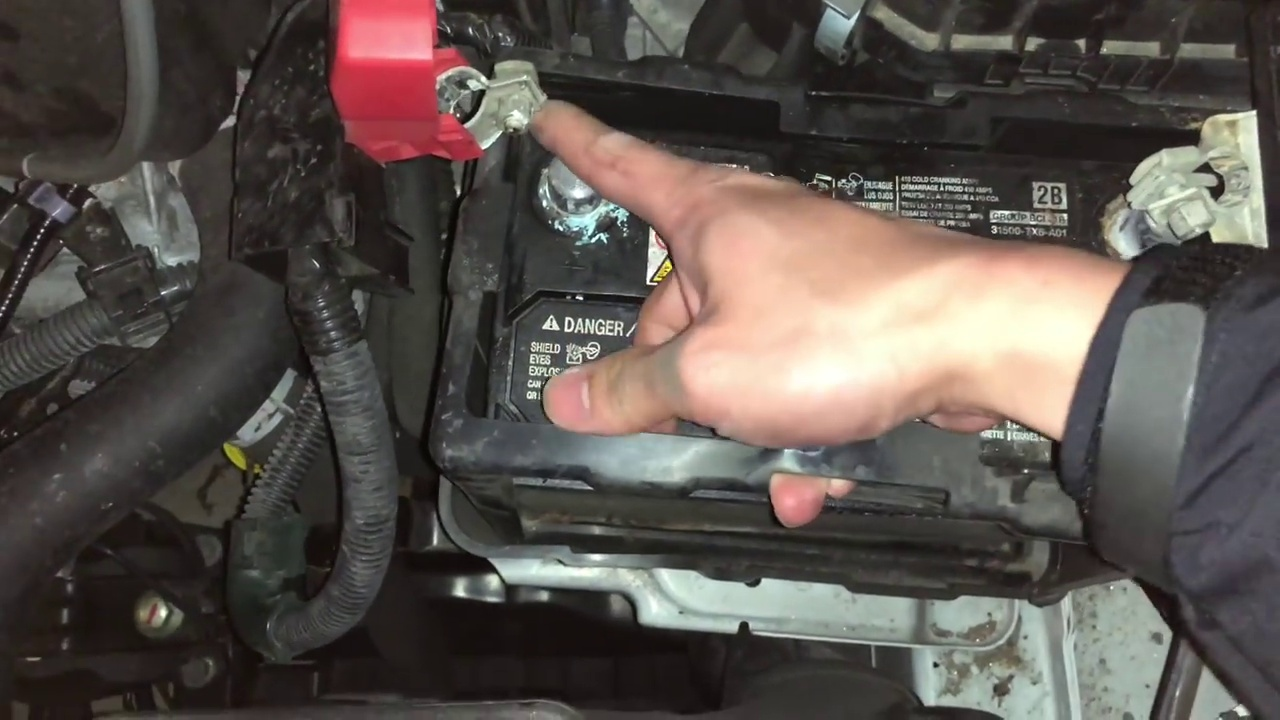battery: (479, 104, 1228, 527)
neg_disconnected: (1064, 104, 1273, 258)
pos_disconnected: (380, 33, 620, 261)
pos_touched: (469, 70, 707, 374)
